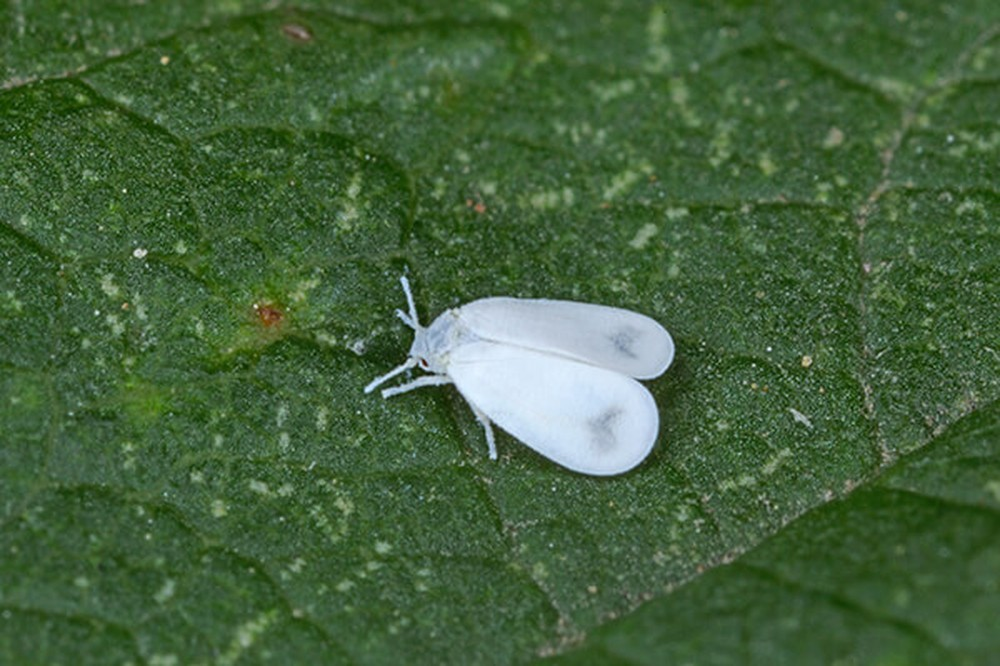Mosca Blanca: (351, 257, 698, 507)
